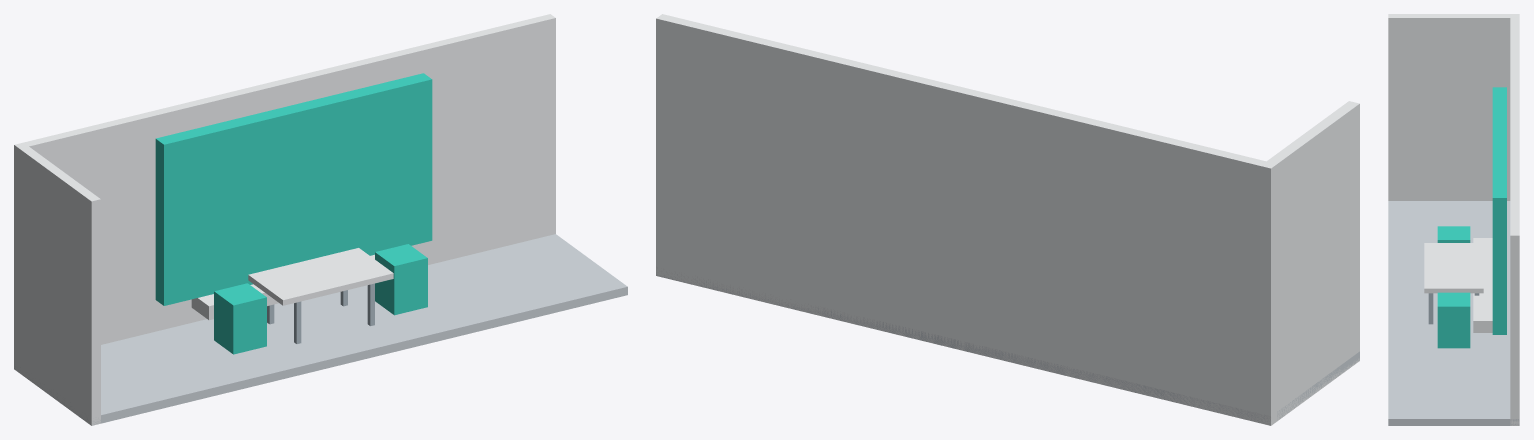
The picture shows the model from 3 angles, left to right: view 1: azimuth 30°, elevation 25°; view 2: azimuth 150°, elevation 25°; view 3: azimuth 270°, elevation 25°; orthographic projection. The views are drawn at different scales.
Parts seen in each view (by area): view 1: Exhibition Booth Concept; view 2: Exhibition Booth Concept; view 3: Exhibition Booth Concept.
Boxes of the visible parts, box(x1,y1,x2,y2) form: Exhibition Booth Concept: box(14, 14, 627, 425); Exhibition Booth Concept: box(656, 14, 1359, 425); Exhibition Booth Concept: box(1388, 14, 1519, 425).
Size of the model in its own units: 8 by 3.2 by 2.
